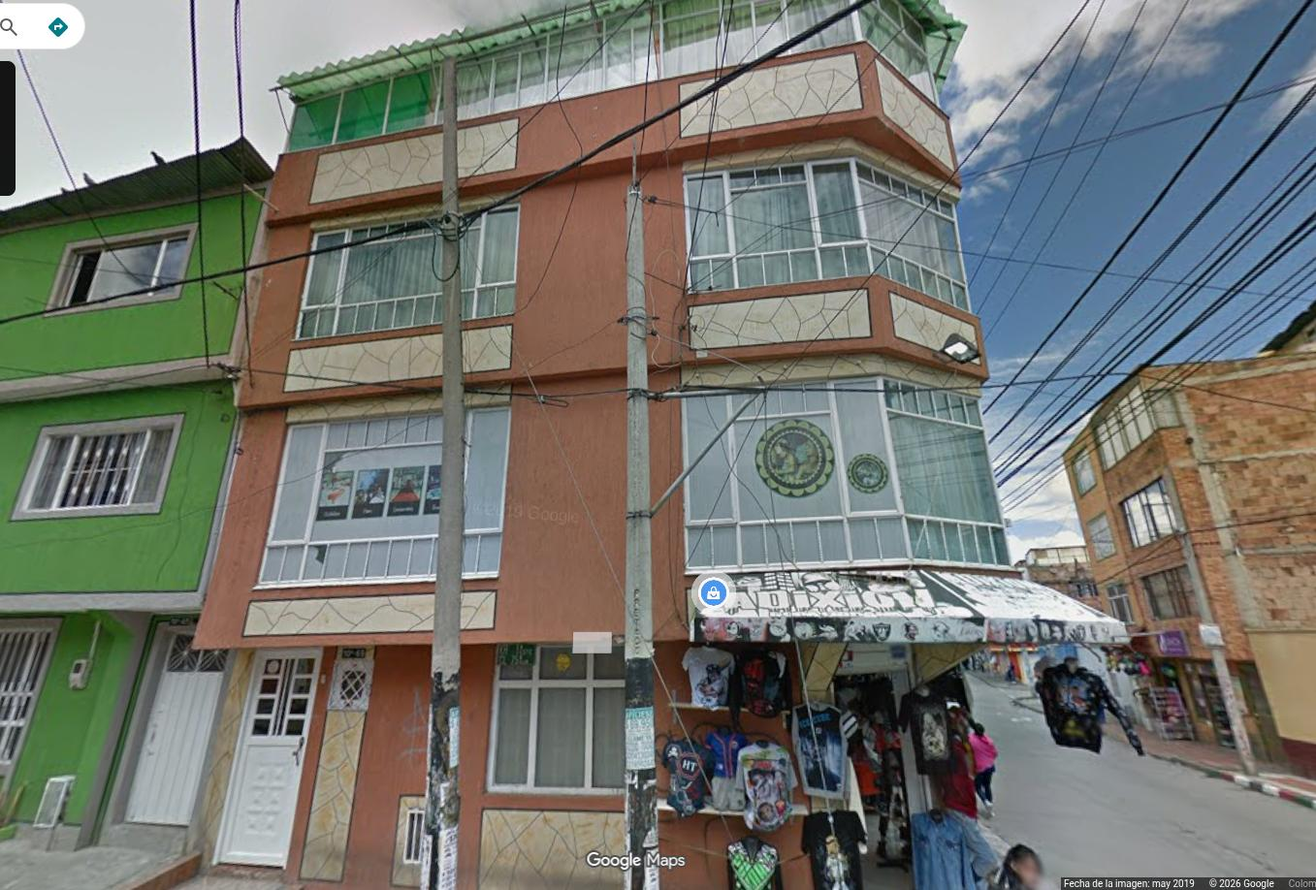casa: (199, 0, 1123, 889), (0, 139, 272, 844)
poste: (422, 57, 465, 889), (623, 158, 660, 889)
